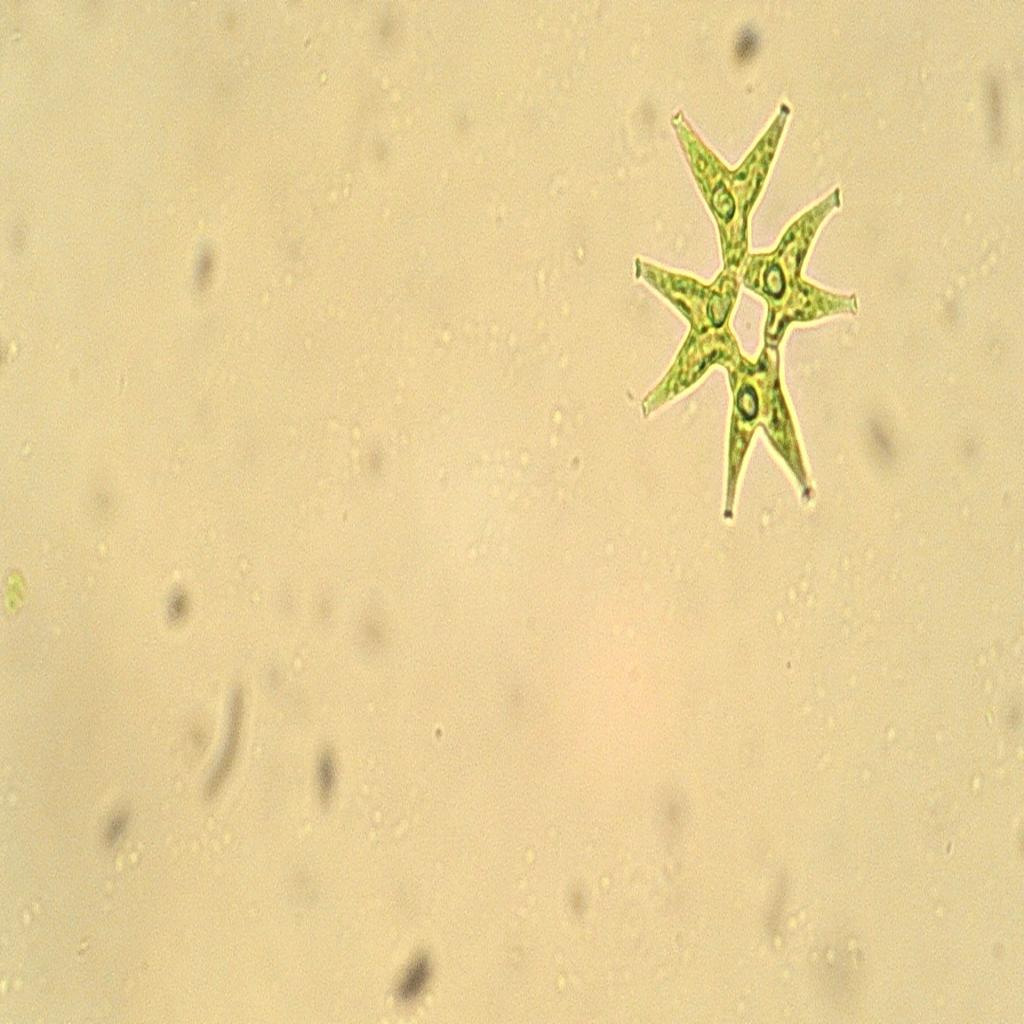Pediastrum_CT: (616, 68, 872, 532)
